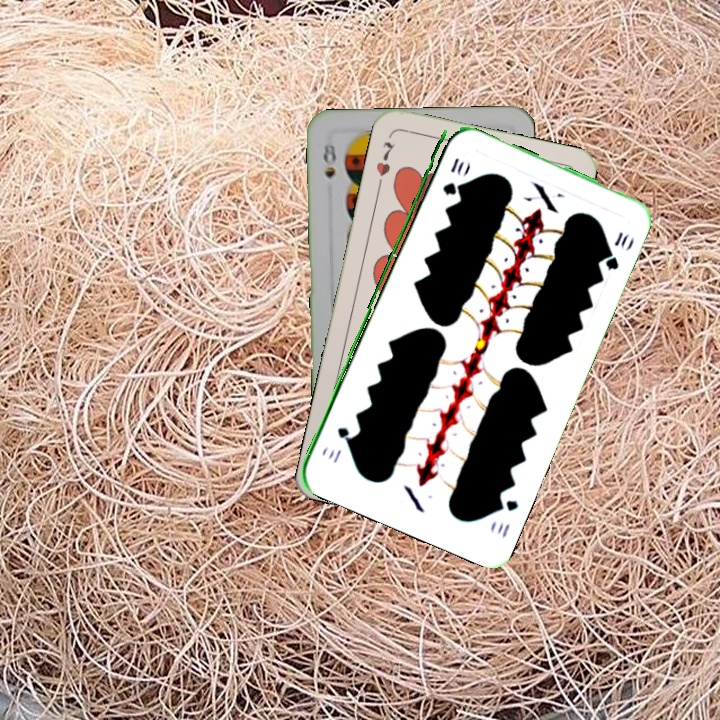G10: (491, 493, 521, 540), (438, 154, 467, 198)
H7: (372, 137, 398, 190)
S8: (318, 137, 339, 181)
